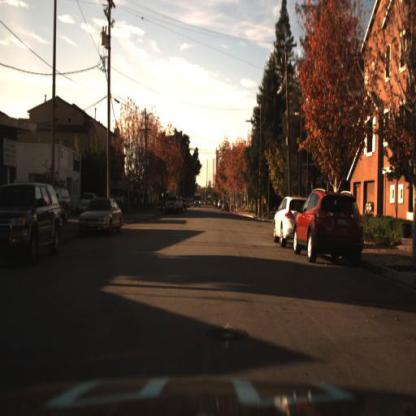car: (292, 184, 365, 264), (1, 183, 64, 262), (77, 194, 125, 239), (77, 195, 124, 239), (273, 196, 307, 249), (273, 193, 307, 246), (164, 193, 182, 216), (165, 192, 182, 214)
